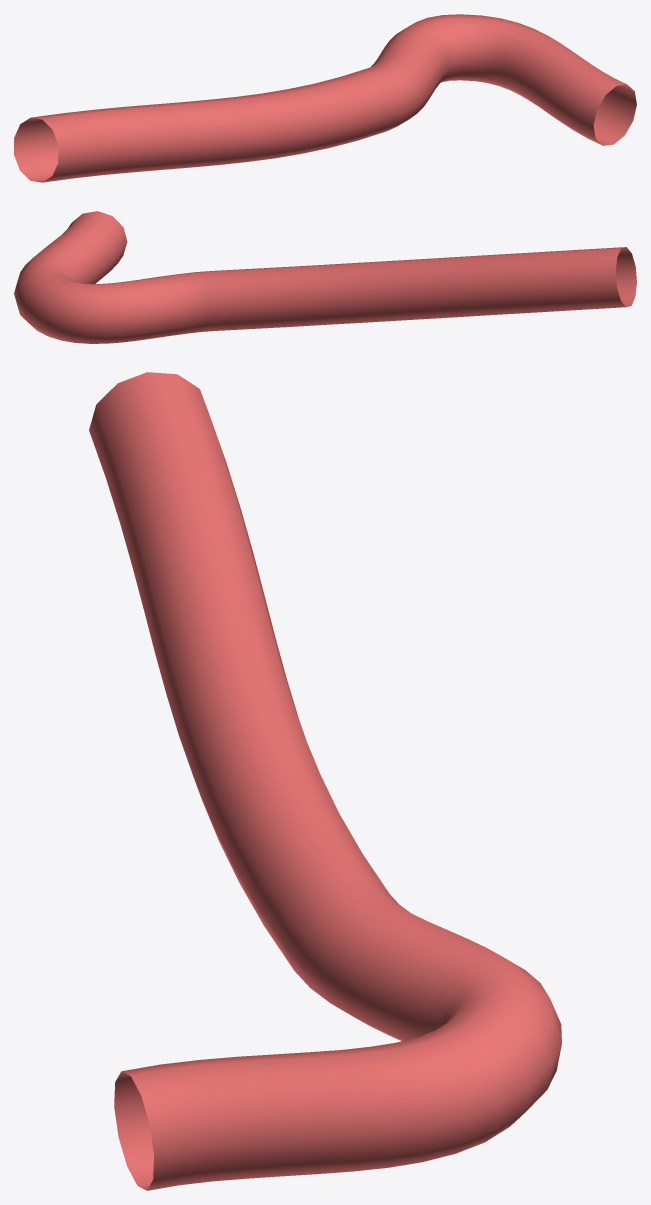
File: Posterior_ethmoidal_artery.l_BezierCurve.359.glb
3 renders of one model, top to bottom at view 1: azimuth 30°, elevation 25°; view 2: azimuth 150°, elevation 25°; view 3: azimuth 270°, elevation 25°, orthographic. The views are drawn at different scales.
Visible parts, largest first — view 1: Posterior_ethmoidal_artery.l_BezierCurve.359; view 2: Posterior_ethmoidal_artery.l_BezierCurve.359; view 3: Posterior_ethmoidal_artery.l_BezierCurve.359.
Part boxes in pixels (x1,y1,x2,y2): Posterior_ethmoidal_artery.l_BezierCurve.359: [14, 14, 636, 182]; Posterior_ethmoidal_artery.l_BezierCurve.359: [14, 211, 636, 343]; Posterior_ethmoidal_artery.l_BezierCurve.359: [89, 372, 561, 1190].
Bounding box in the file's own units: 0.00746 × 0.00189 × 0.0027.
